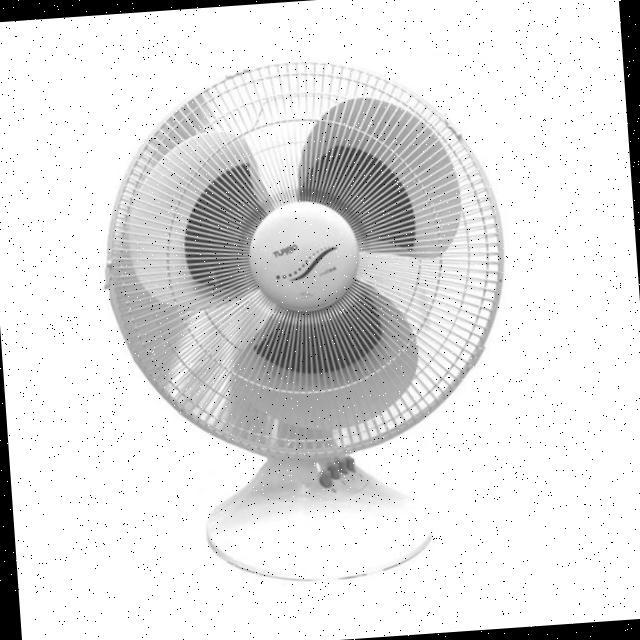fan: (78, 42, 522, 494)
